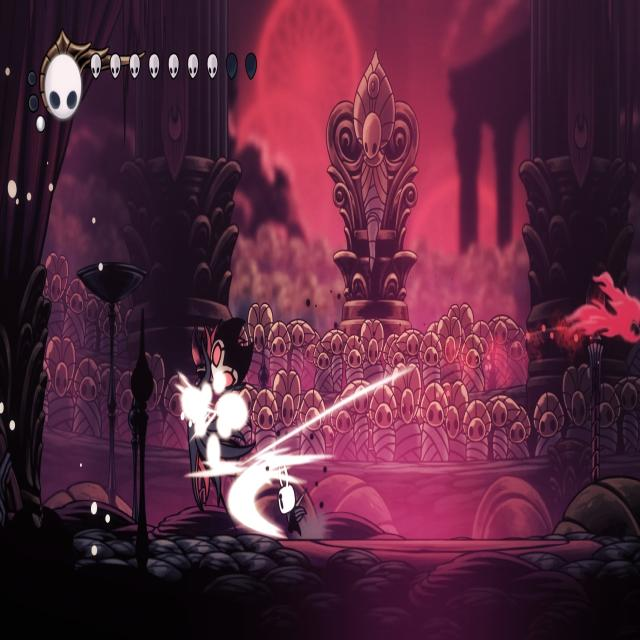Fire Bat: (570, 269, 638, 345)
Grimm: (184, 313, 261, 534)
Player: (274, 462, 308, 541)
